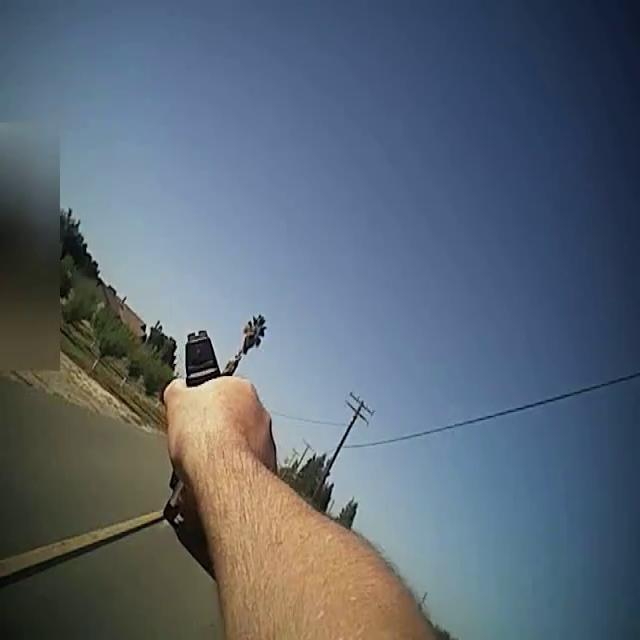gun: (174, 306, 251, 528)
